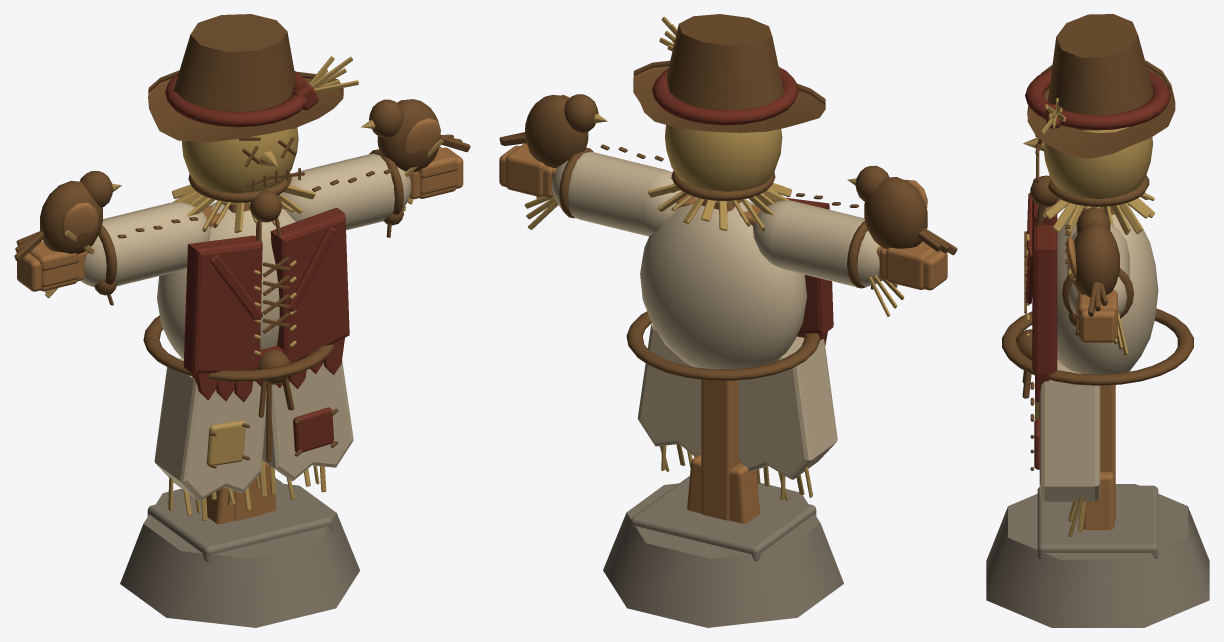
The model's file is scarecrow.glb.
3 views of the same model, side by side, from view 1: azimuth 30°, elevation 25°; view 2: azimuth 150°, elevation 25°; view 3: azimuth 270°, elevation 25° (orthographic).
Parts seen in each view (by area): view 1: scarecrow-farm-cloth, scarecrow-farm-wood-shadow, scarecrow-farm-barn-red-dark, scarecrow-farm-stone, scarecrow-farm-thatch, scarecrow-farm-wood; view 2: scarecrow-farm-cloth, scarecrow-farm-wood-shadow, scarecrow-farm-stone, scarecrow-farm-wood, scarecrow-farm-thatch, scarecrow-farm-barn-red-dark; view 3: scarecrow-farm-stone, scarecrow-farm-wood-shadow, scarecrow-farm-cloth, scarecrow-farm-barn-red-dark, scarecrow-farm-thatch, scarecrow-farm-wood.
Part boxes in pixels (bbox=[...]): scarecrow-farm-cloth: bbox=[81, 153, 411, 500]; scarecrow-farm-wood-shadow: bbox=[14, 14, 470, 468]; scarecrow-farm-barn-red-dark: bbox=[165, 71, 349, 452]; scarecrow-farm-stone: bbox=[120, 478, 359, 627]; scarecrow-farm-thatch: bbox=[45, 56, 443, 521]; scarecrow-farm-wood: bbox=[17, 118, 463, 523]; scarecrow-farm-cloth: bbox=[551, 151, 882, 479]; scarecrow-farm-wood-shadow: bbox=[499, 14, 957, 380]; scarecrow-farm-stone: bbox=[603, 476, 843, 627]; scarecrow-farm-wood: bbox=[499, 94, 947, 523]; scarecrow-farm-thatch: bbox=[524, 16, 927, 500]; scarecrow-farm-barn-red-dark: bbox=[652, 67, 833, 345]; scarecrow-farm-stone: bbox=[986, 484, 1209, 627]; scarecrow-farm-wood-shadow: bbox=[1002, 14, 1193, 470]; scarecrow-farm-cloth: bbox=[1039, 211, 1158, 501]; scarecrow-farm-barn-red-dark: bbox=[1025, 69, 1170, 469]; scarecrow-farm-thatch: bbox=[1023, 98, 1154, 536]; scarecrow-farm-wood: bbox=[1066, 208, 1117, 529].
Bounding box in the file's own units: 3.56 × 4.09 × 1.52.
